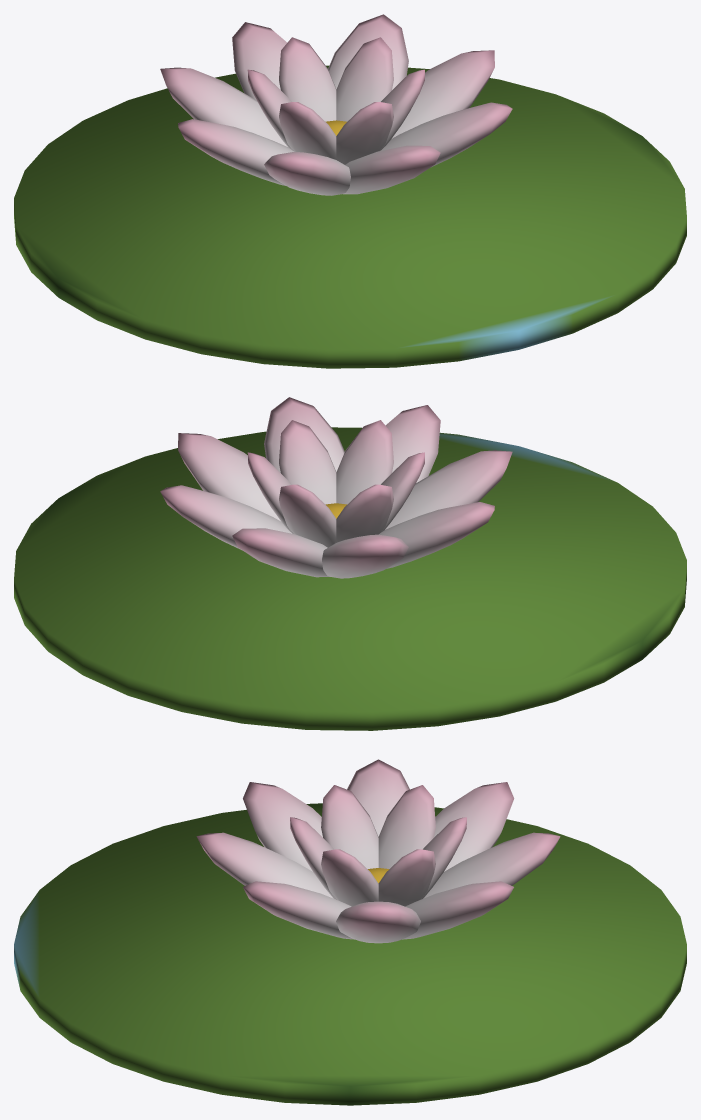
The model's file is seerose.glb.
3 views of the same model, one above another, from view 1: azimuth 30°, elevation 25°; view 2: azimuth 150°, elevation 25°; view 3: azimuth 270°, elevation 25° (orthographic).
Parts seen in each view (by area): view 1: seerose-lack; view 2: seerose-lack; view 3: seerose-lack.
Part boxes in pixels (bbox=[...]): seerose-lack: bbox=[14, 14, 686, 368]; seerose-lack: bbox=[14, 397, 686, 730]; seerose-lack: bbox=[14, 759, 686, 1105].
Size of the model in its own units: 0.96 by 0.2302 by 0.96.
